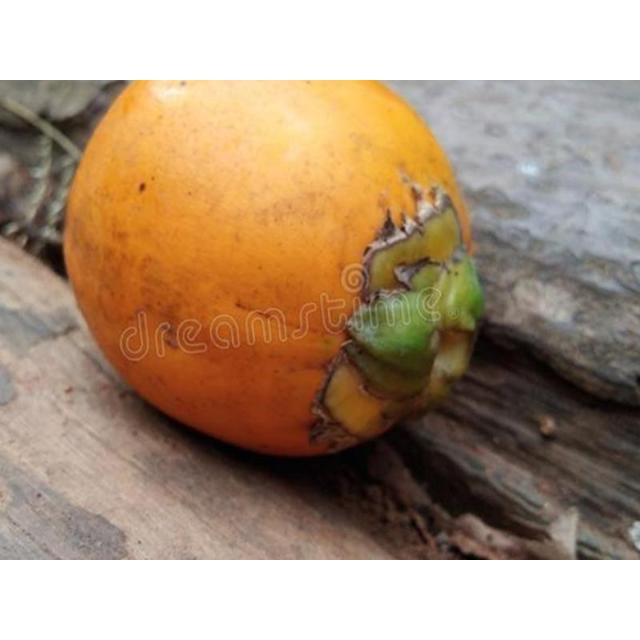good: (62, 80, 486, 461)
